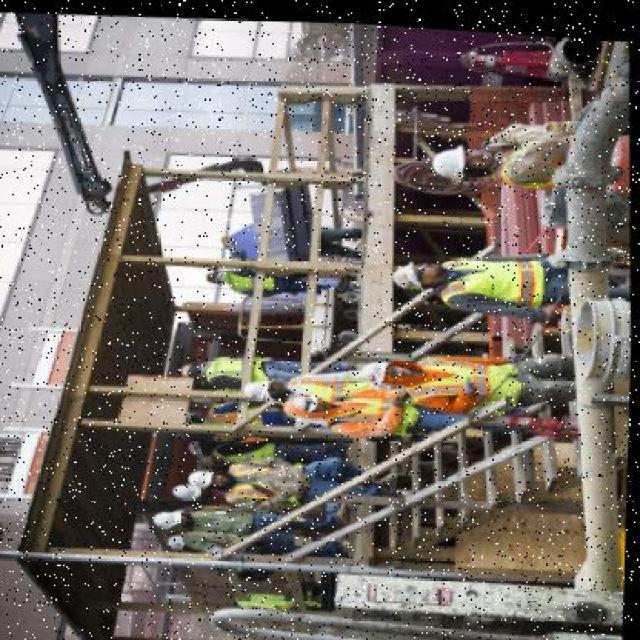helmet: (422, 129, 477, 177), (353, 346, 400, 386), (383, 249, 429, 287), (183, 460, 221, 488), (239, 376, 278, 398), (154, 500, 184, 528)
vest: (411, 343, 519, 397), (440, 250, 540, 292)
